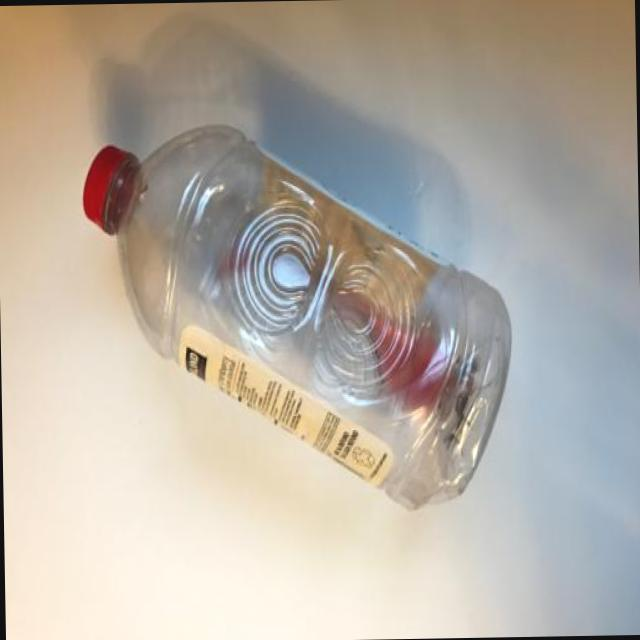Recycle: (80, 119, 516, 516)
